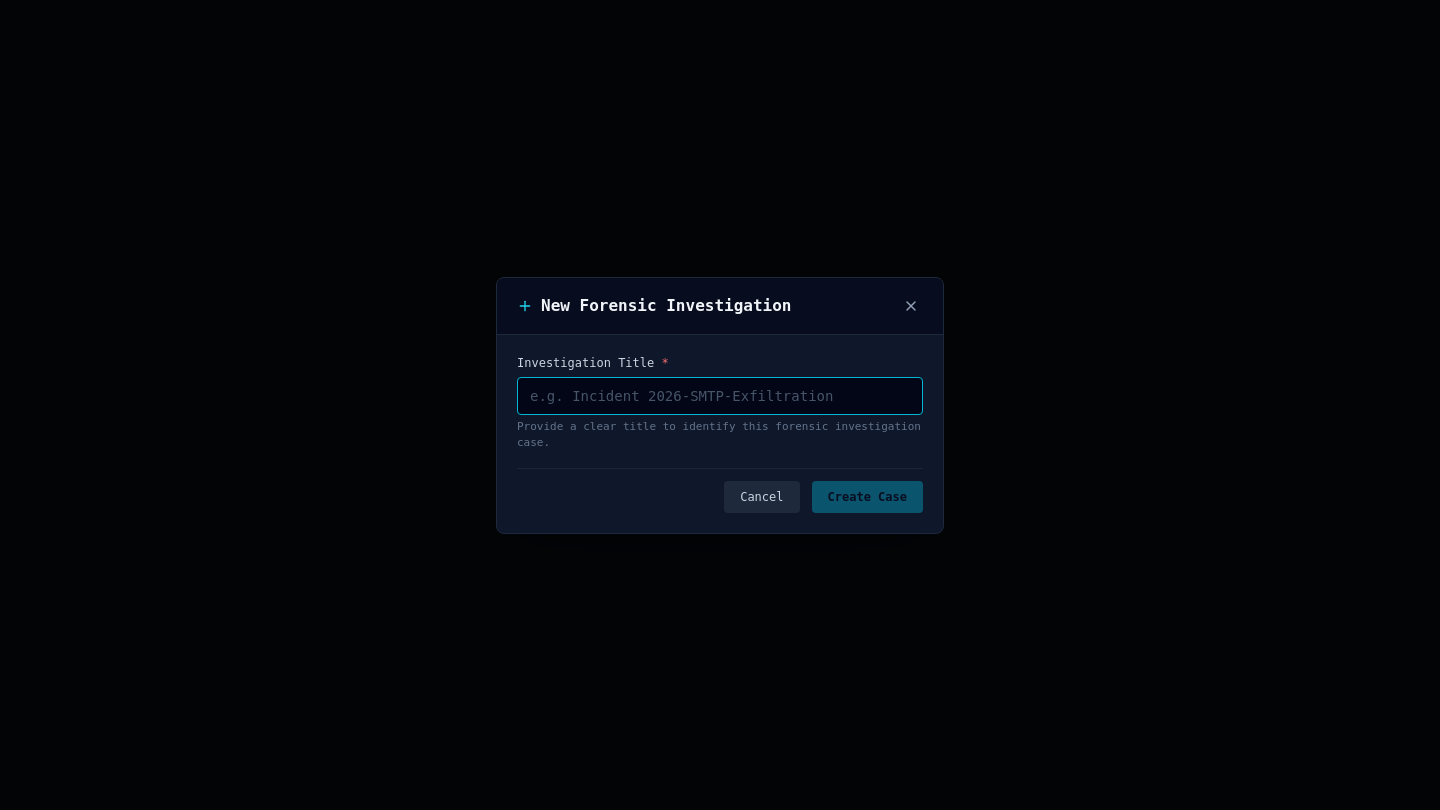
it: CreateInvestigationModal Component Tests › 4. Create investigation displays API error failure message
Type "Failing Title" into the field with placeholder "e.g. Incident 2026-SMTP-Exfiltration".
click(720, 396); type("Failing Title")  # box left=517, top=376, right=923, bottom=414
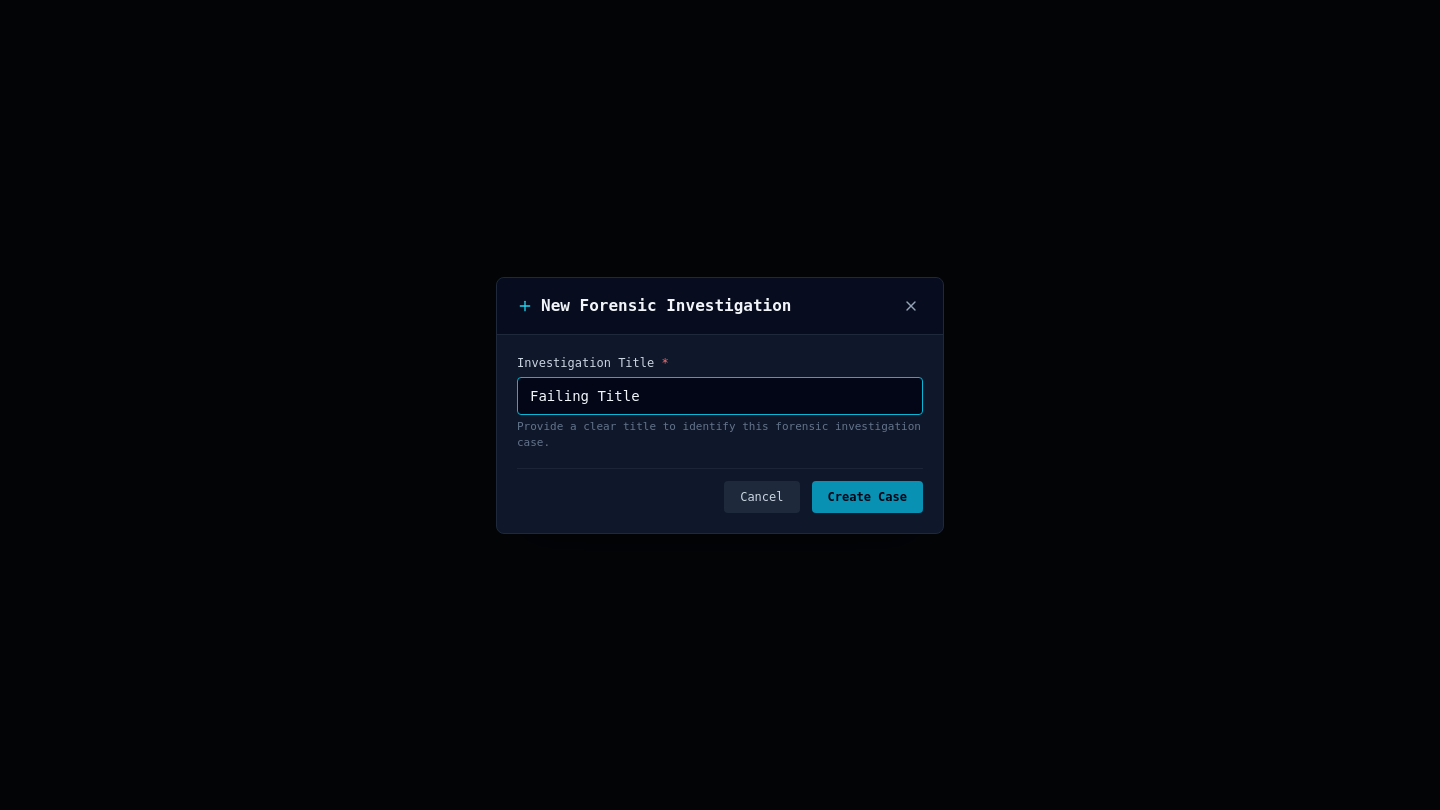
Click the button "Create Case".
click(867, 496)  # box left=812, top=480, right=923, bottom=512
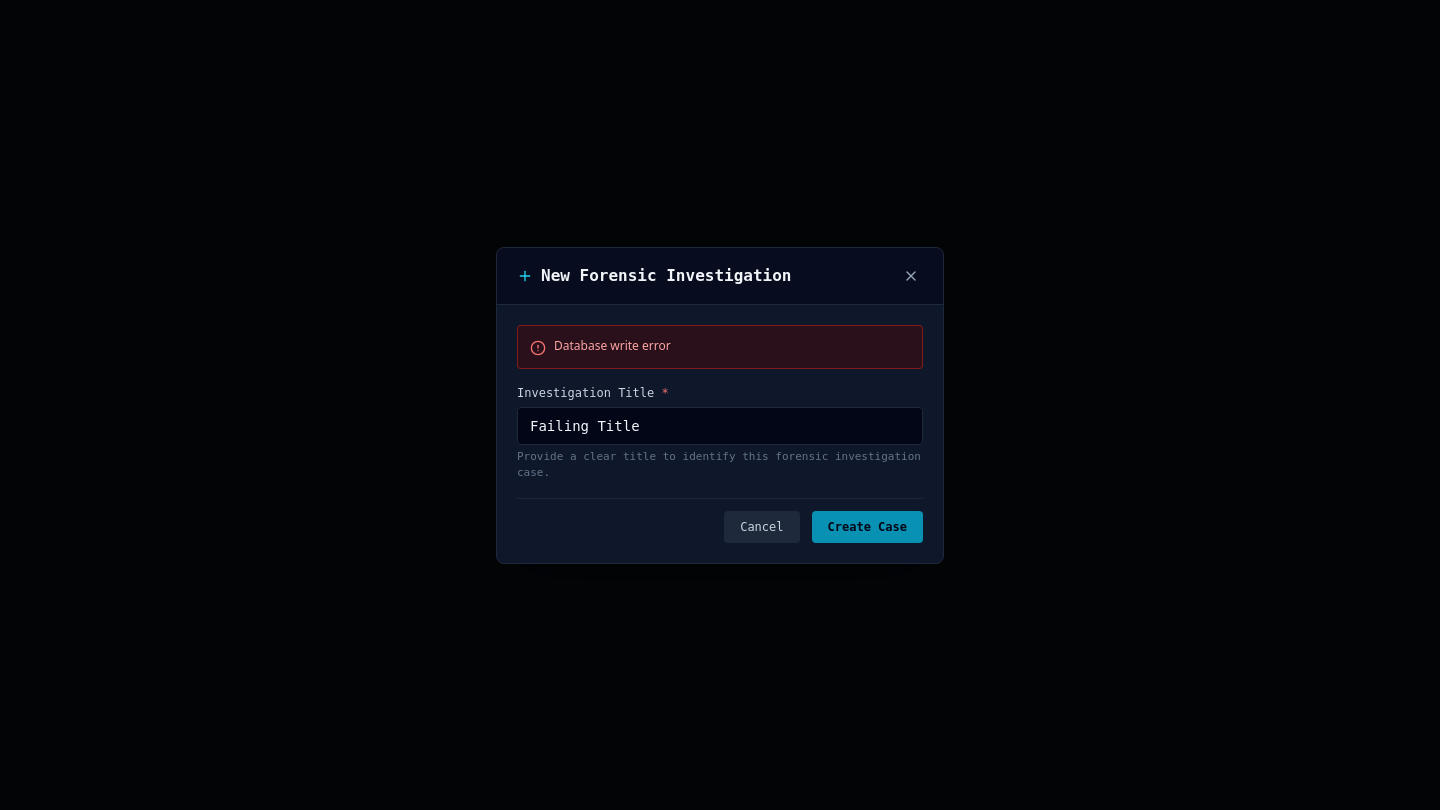
Check: the text "Database write error" is shown, box left=554, top=338, right=671, bottom=354
